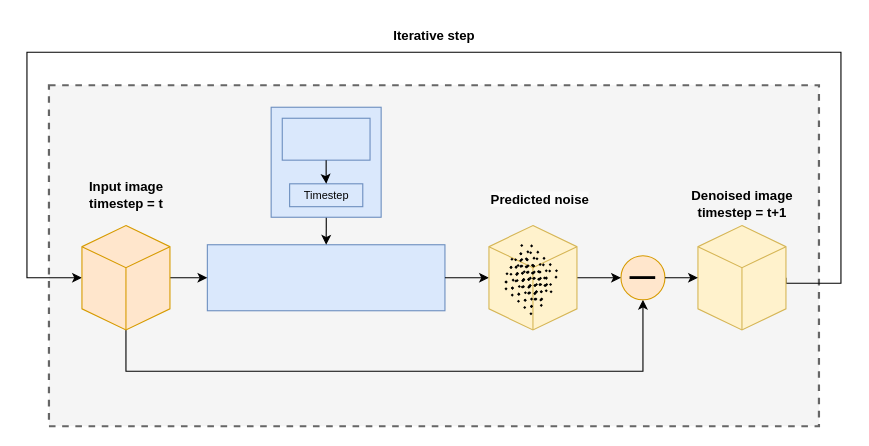
The diagram is 869 pixels wide and 446 high, and some of its shapes have lost their labels. Here are the shapes that lost their labels. From the top down, the box of each, then its label:
(281, 117, 370, 160): Scheduler
(206, 244, 445, 311): Noise Predicting network forward pass
